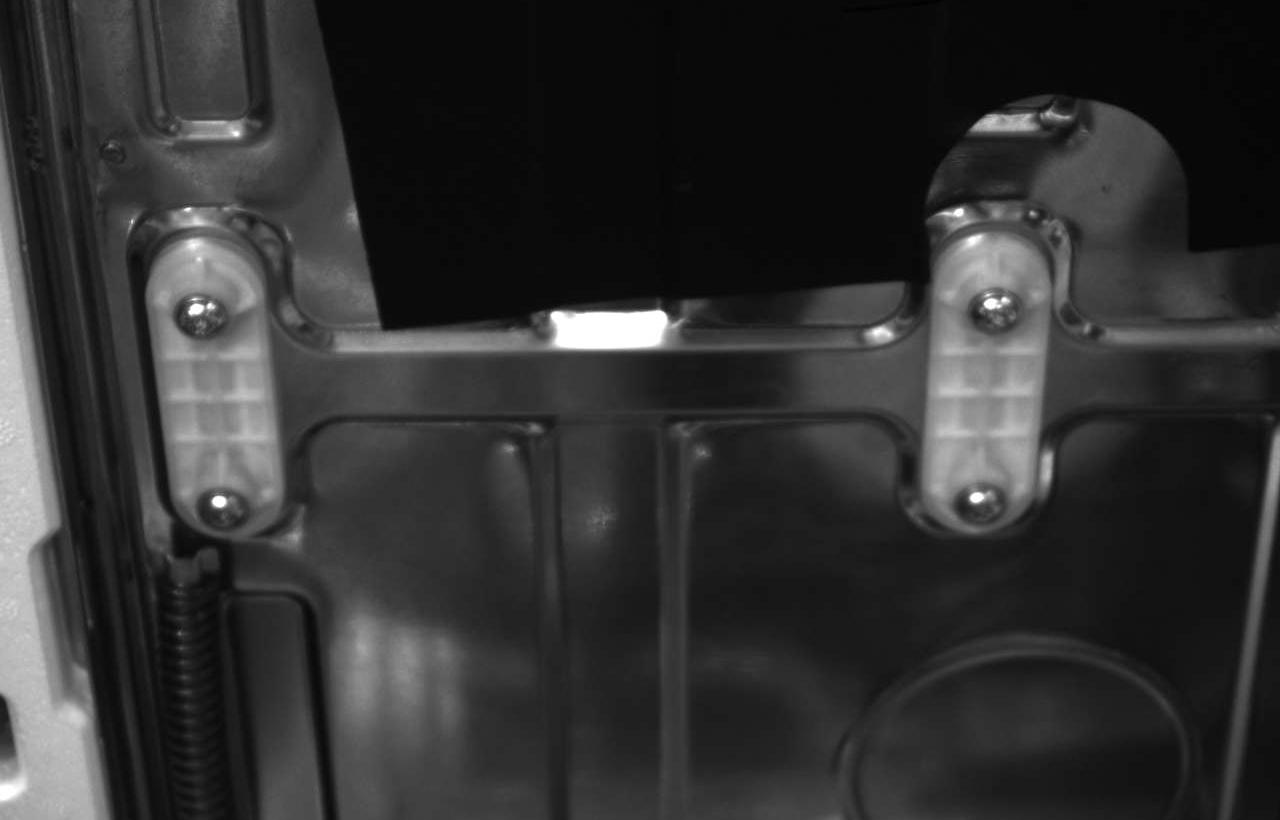vida-ok: (159, 282, 246, 360), (959, 267, 1047, 340), (187, 484, 267, 548), (945, 475, 1020, 533)
